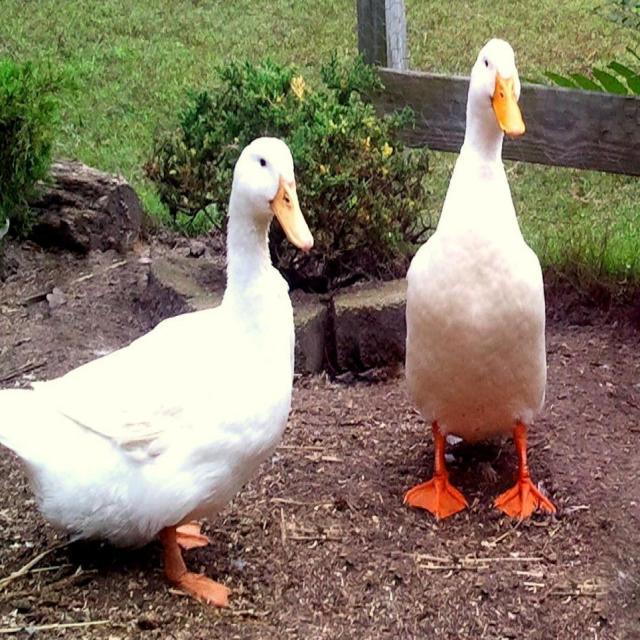Duck: (0, 137, 314, 609), (404, 39, 557, 524)
